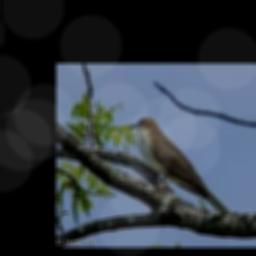Cuckoo: (128, 117, 231, 213)
